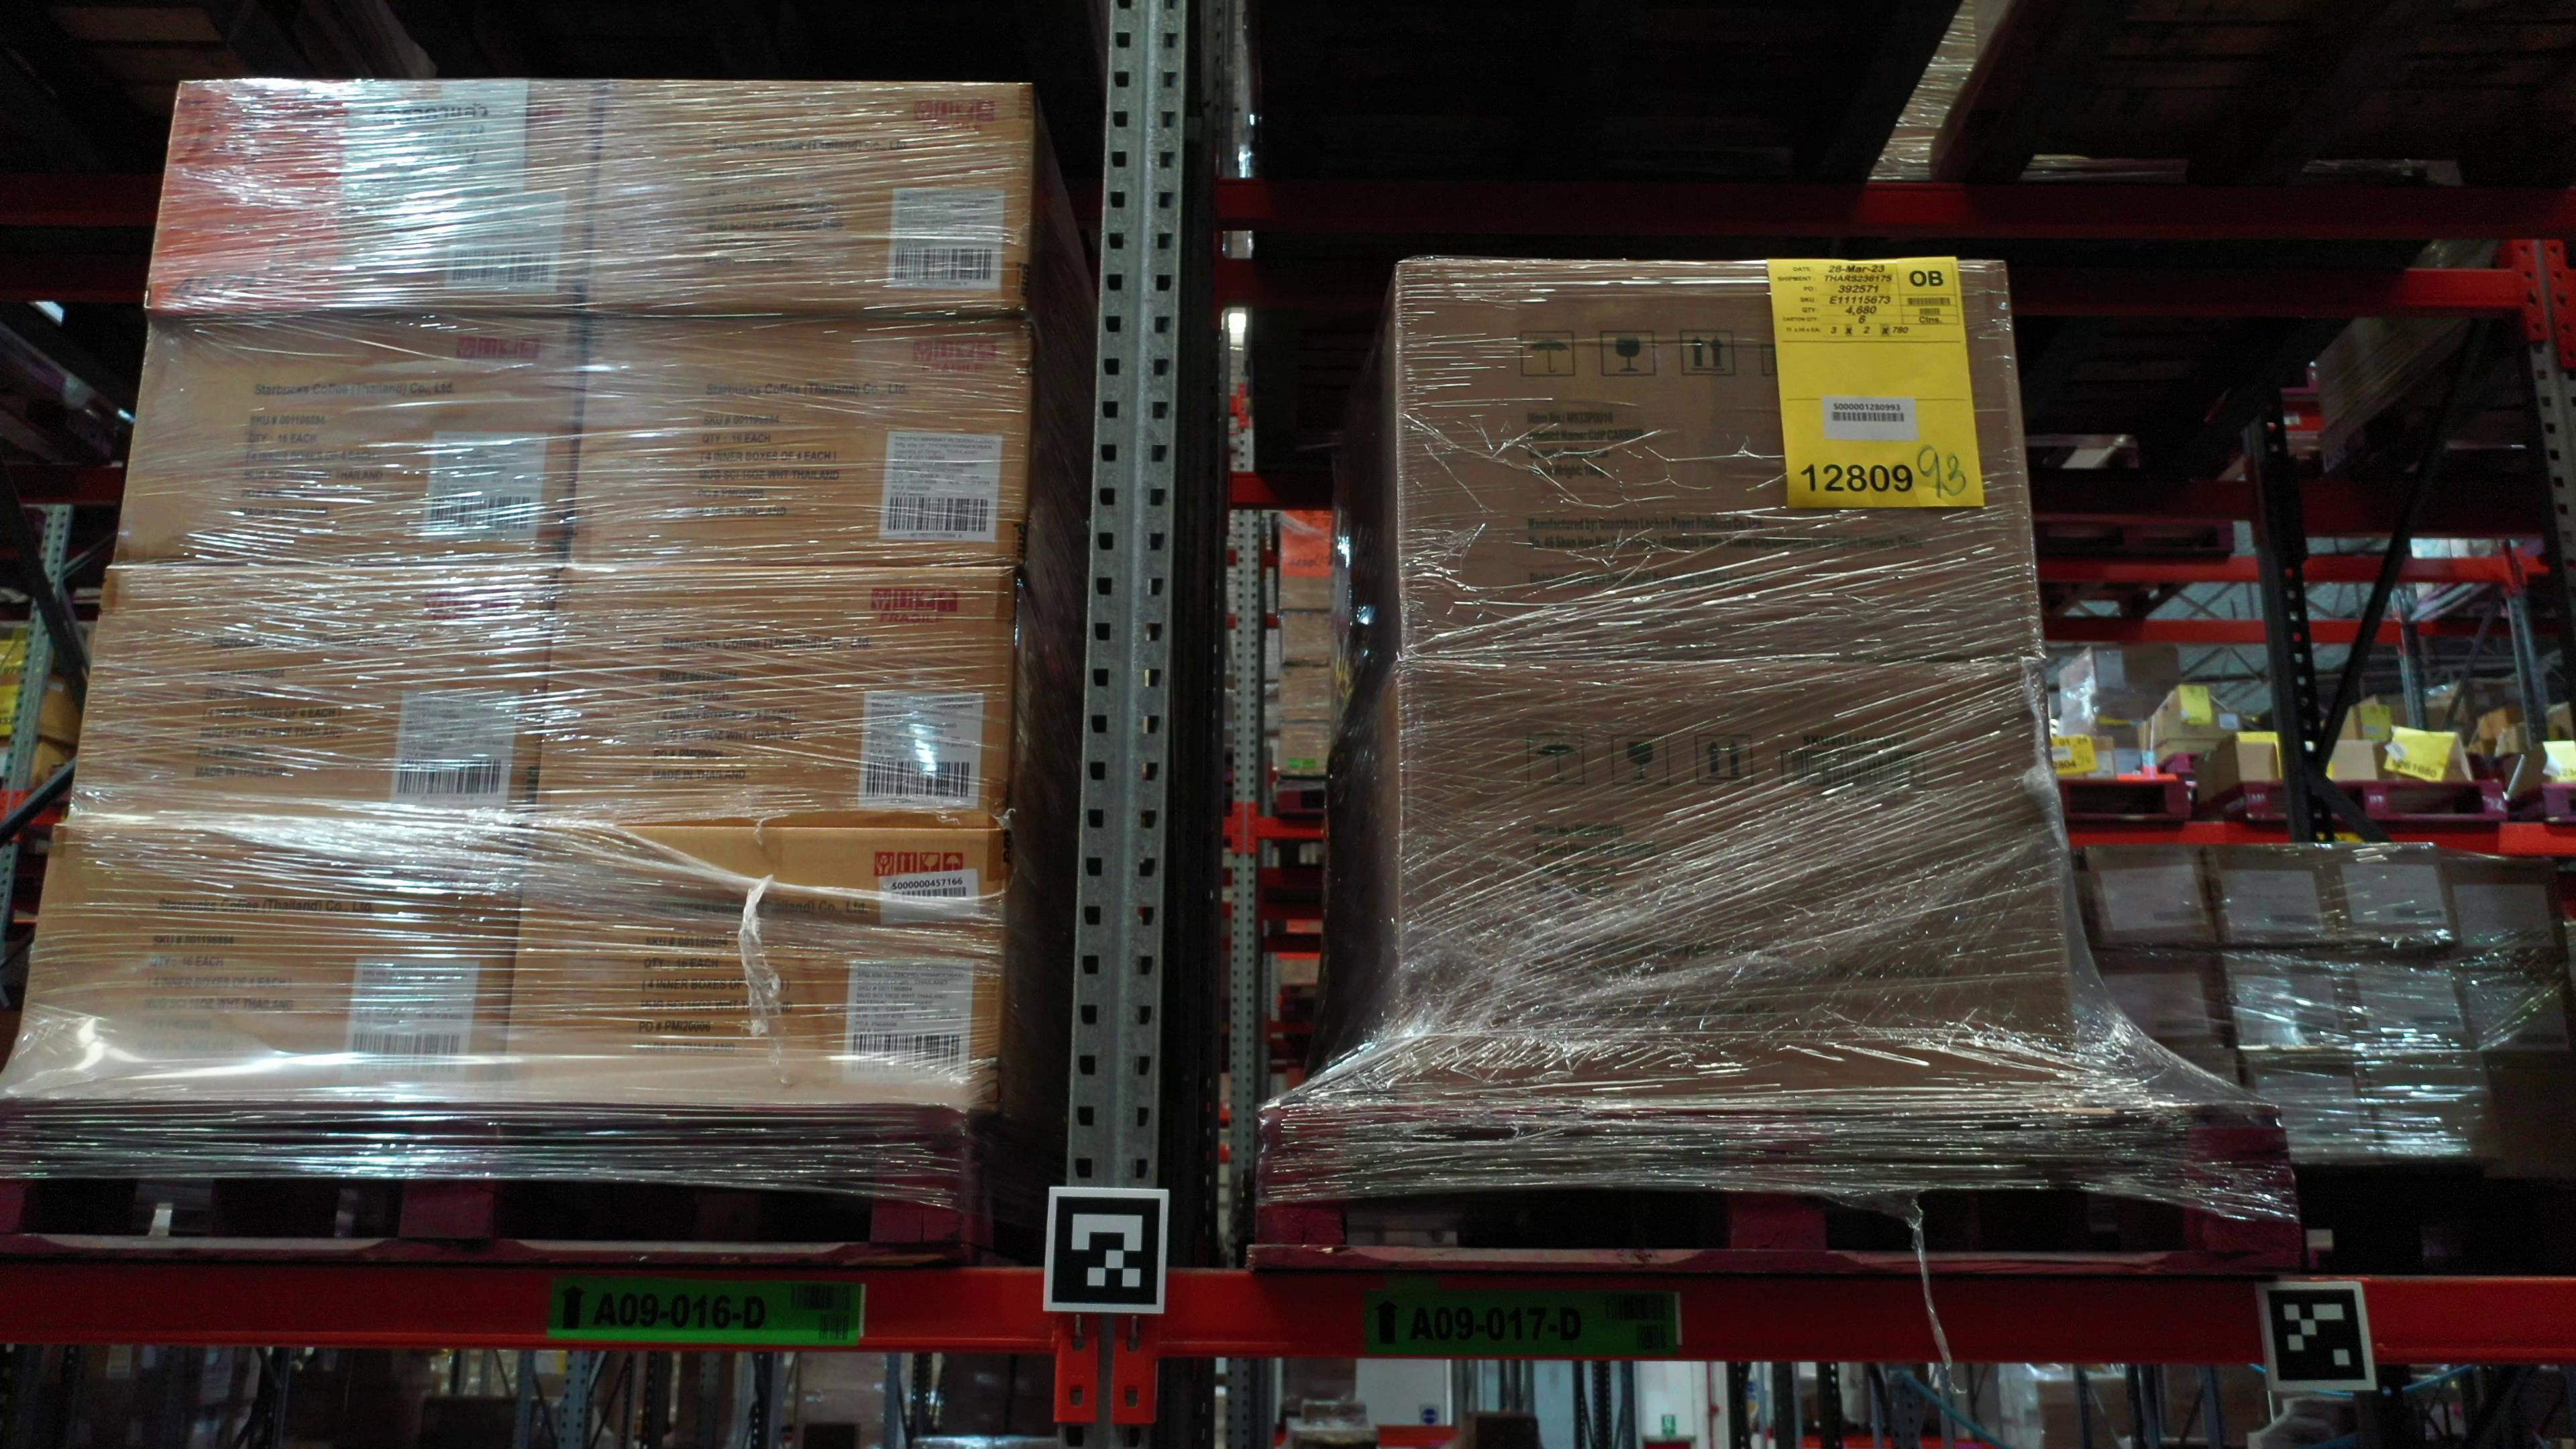-: (1401, 658, 2079, 1104), (1399, 257, 2047, 662), (11, 819, 529, 1100), (494, 824, 1012, 1104), (65, 559, 559, 828), (529, 561, 1017, 830), (563, 313, 1031, 564), (113, 313, 587, 561), (140, 78, 602, 315), (582, 76, 1035, 315)
